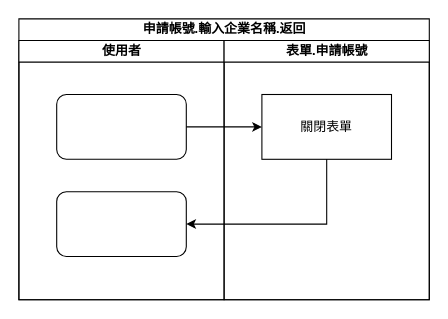
Some shapes in this 448 by 319 pixel diagram are drawn without their labels. The shapes that lost their labels are listed below. From the top down, each one's centre as x and y in pixels, then its label:
pixel 121 126: 點擊按鈕.返回
pixel 121 223: 結束執行
